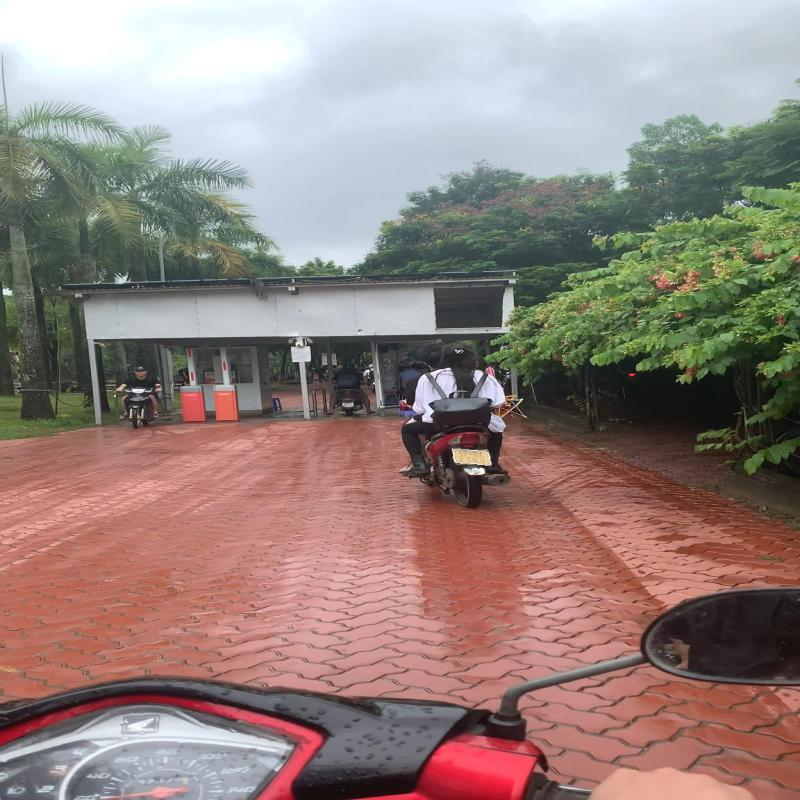licenseplate: (450, 446, 497, 469)
motorcyclist: (386, 338, 525, 512)
nohelmet: (442, 340, 480, 366), (415, 340, 446, 369)
